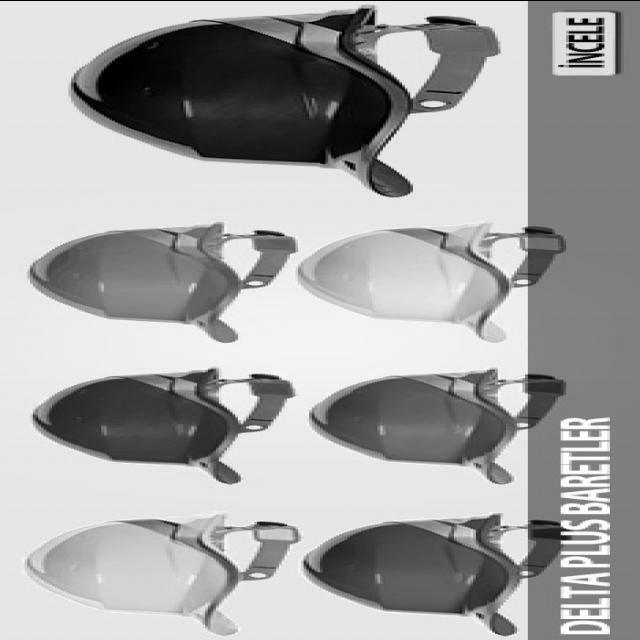construction helmet: (71, 5, 503, 197), (22, 515, 301, 636), (27, 220, 290, 341), (309, 223, 566, 341), (306, 516, 561, 633), (312, 368, 566, 483), (30, 370, 287, 480)
